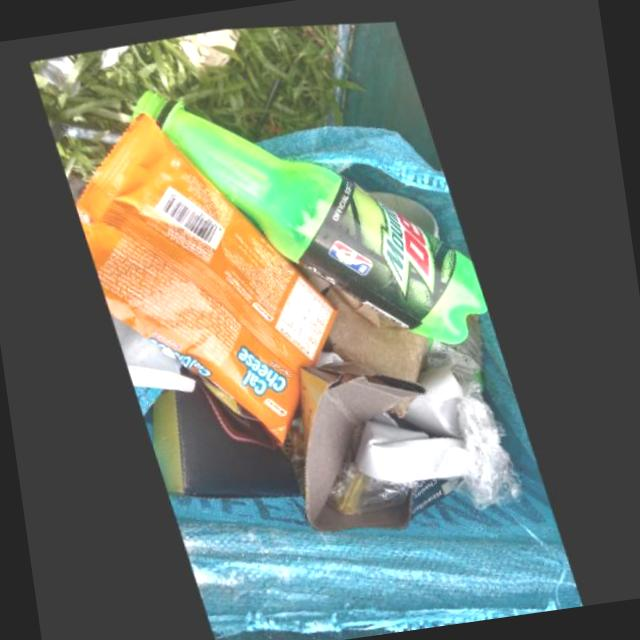bao_bi_thuc_pham: (79, 107, 340, 435)
carton: (301, 360, 444, 525), (155, 371, 304, 494)
chai_nhua: (138, 84, 491, 334)
